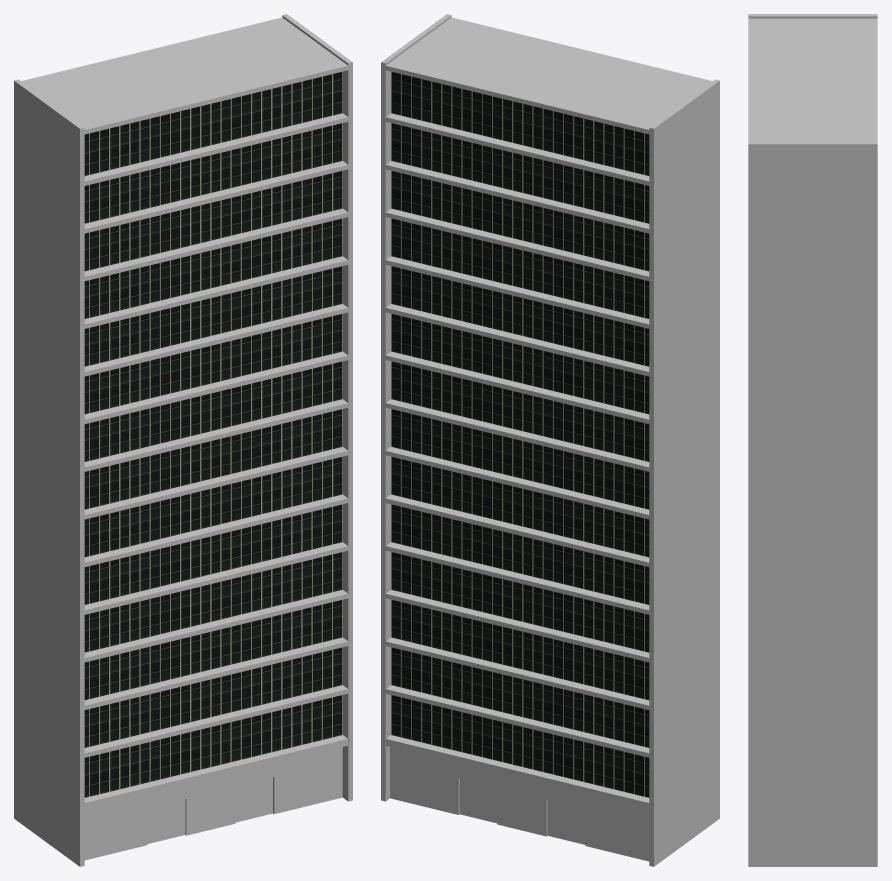
3 renders of one model, left to right at view 1: azimuth 30°, elevation 25°; view 2: azimuth 150°, elevation 25°; view 3: azimuth 270°, elevation 25°, orthographic. The views are drawn at different scales.
Parts seen in each view (by area): view 1: BC-094; view 2: BC-094; view 3: BC-094.
Boxes of the visible parts, x1,y1,x2,y2 form: BC-094: (14, 14, 352, 866); BC-094: (381, 14, 719, 866); BC-094: (748, 14, 877, 866).
Size of what is drawn, in the model's own units: 20.55 by 53.1 by 8.61.
